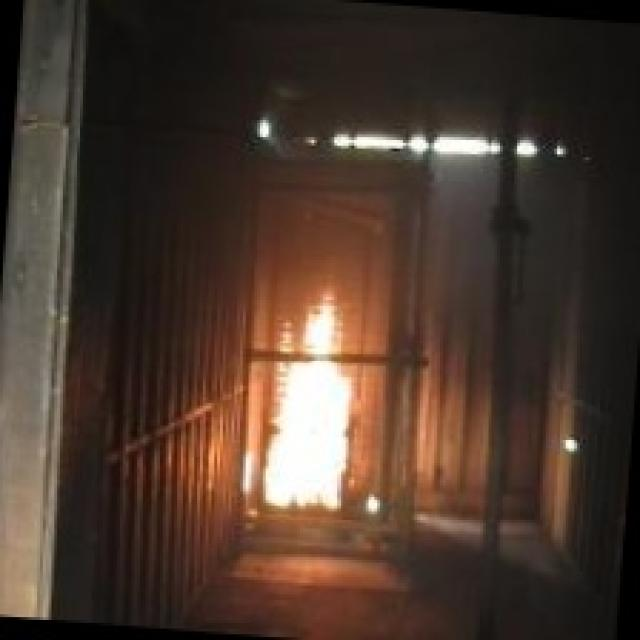fire: (250, 260, 376, 506)
